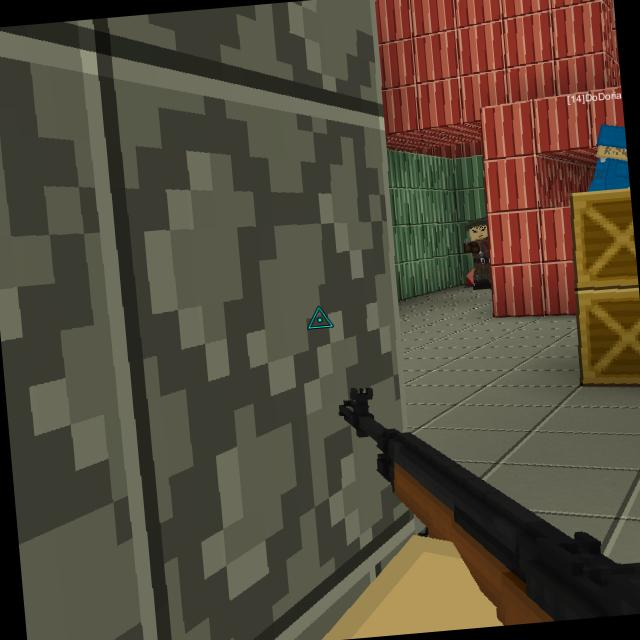enemy: (461, 215, 494, 292)
